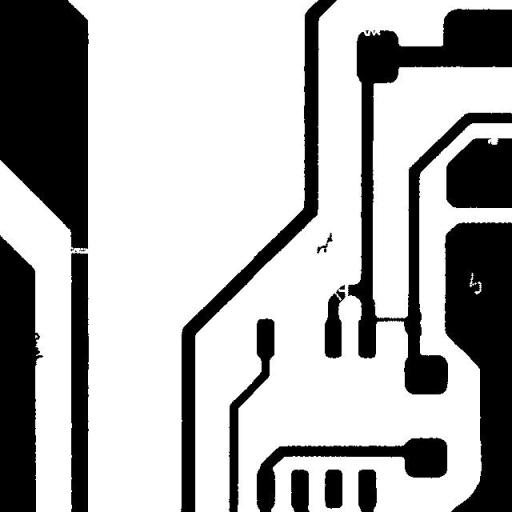copper: (309, 225, 340, 261)
mousebite: (350, 12, 388, 43), (480, 128, 506, 152)
open: (326, 273, 356, 317), (56, 238, 102, 261)
pin-hole: (462, 264, 488, 302)
short: (362, 310, 422, 328)
spur: (24, 325, 50, 373)
